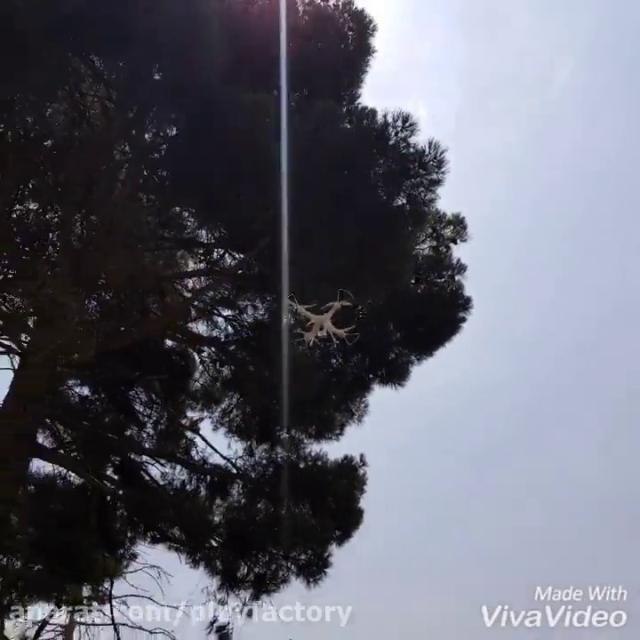drone: (285, 285, 363, 353)
